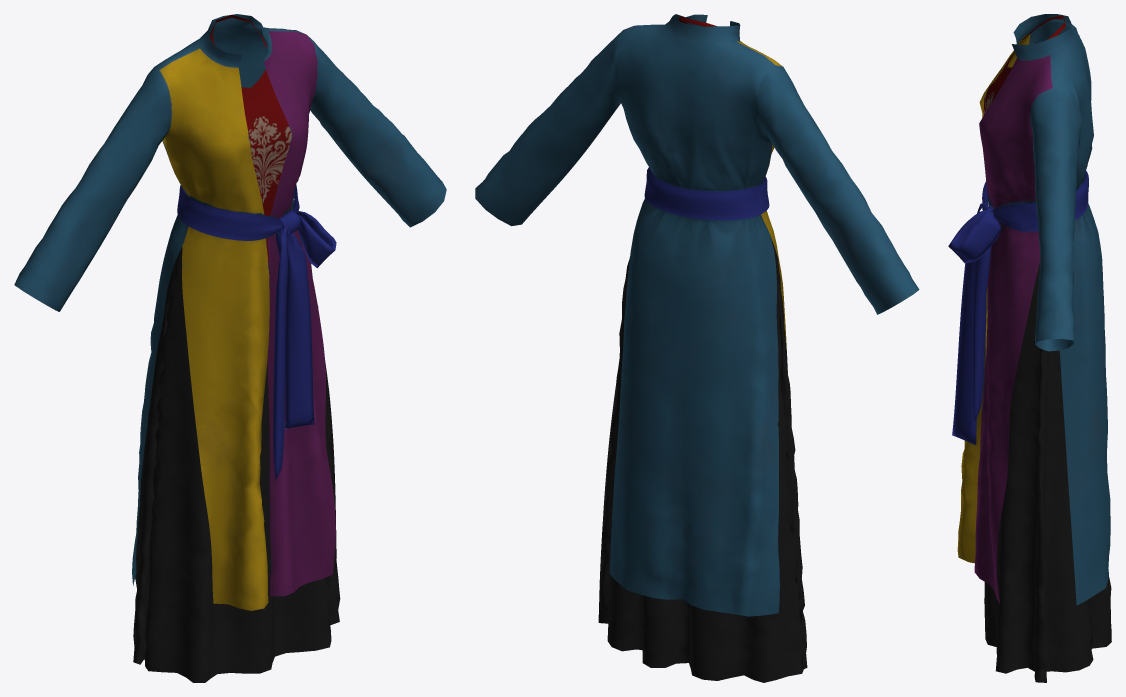
File: tu-than-color.glb
The picture shows the model from 3 angles, left to right: view 1: azimuth 30°, elevation 25°; view 2: azimuth 150°, elevation 25°; view 3: azimuth 270°, elevation 25°; orthographic projection. The views are drawn at different scales.
Parts seen in each view (by area): view 1: TOP_0, LOWER_0; view 2: TOP_0, LOWER_0; view 3: TOP_0, LOWER_0.
Boxes of the visible parts, x1,y1,x2,y2 form: TOP_0: [14, 14, 446, 610]; LOWER_0: [133, 247, 340, 682]; TOP_0: [475, 14, 919, 616]; LOWER_0: [598, 235, 807, 682]; TOP_0: [948, 14, 1110, 605]; LOWER_0: [984, 261, 1111, 682].
Size of the model in its own units: 1.07 by 1.51 by 0.359.
Materials: 2 (2 with a texture image).
